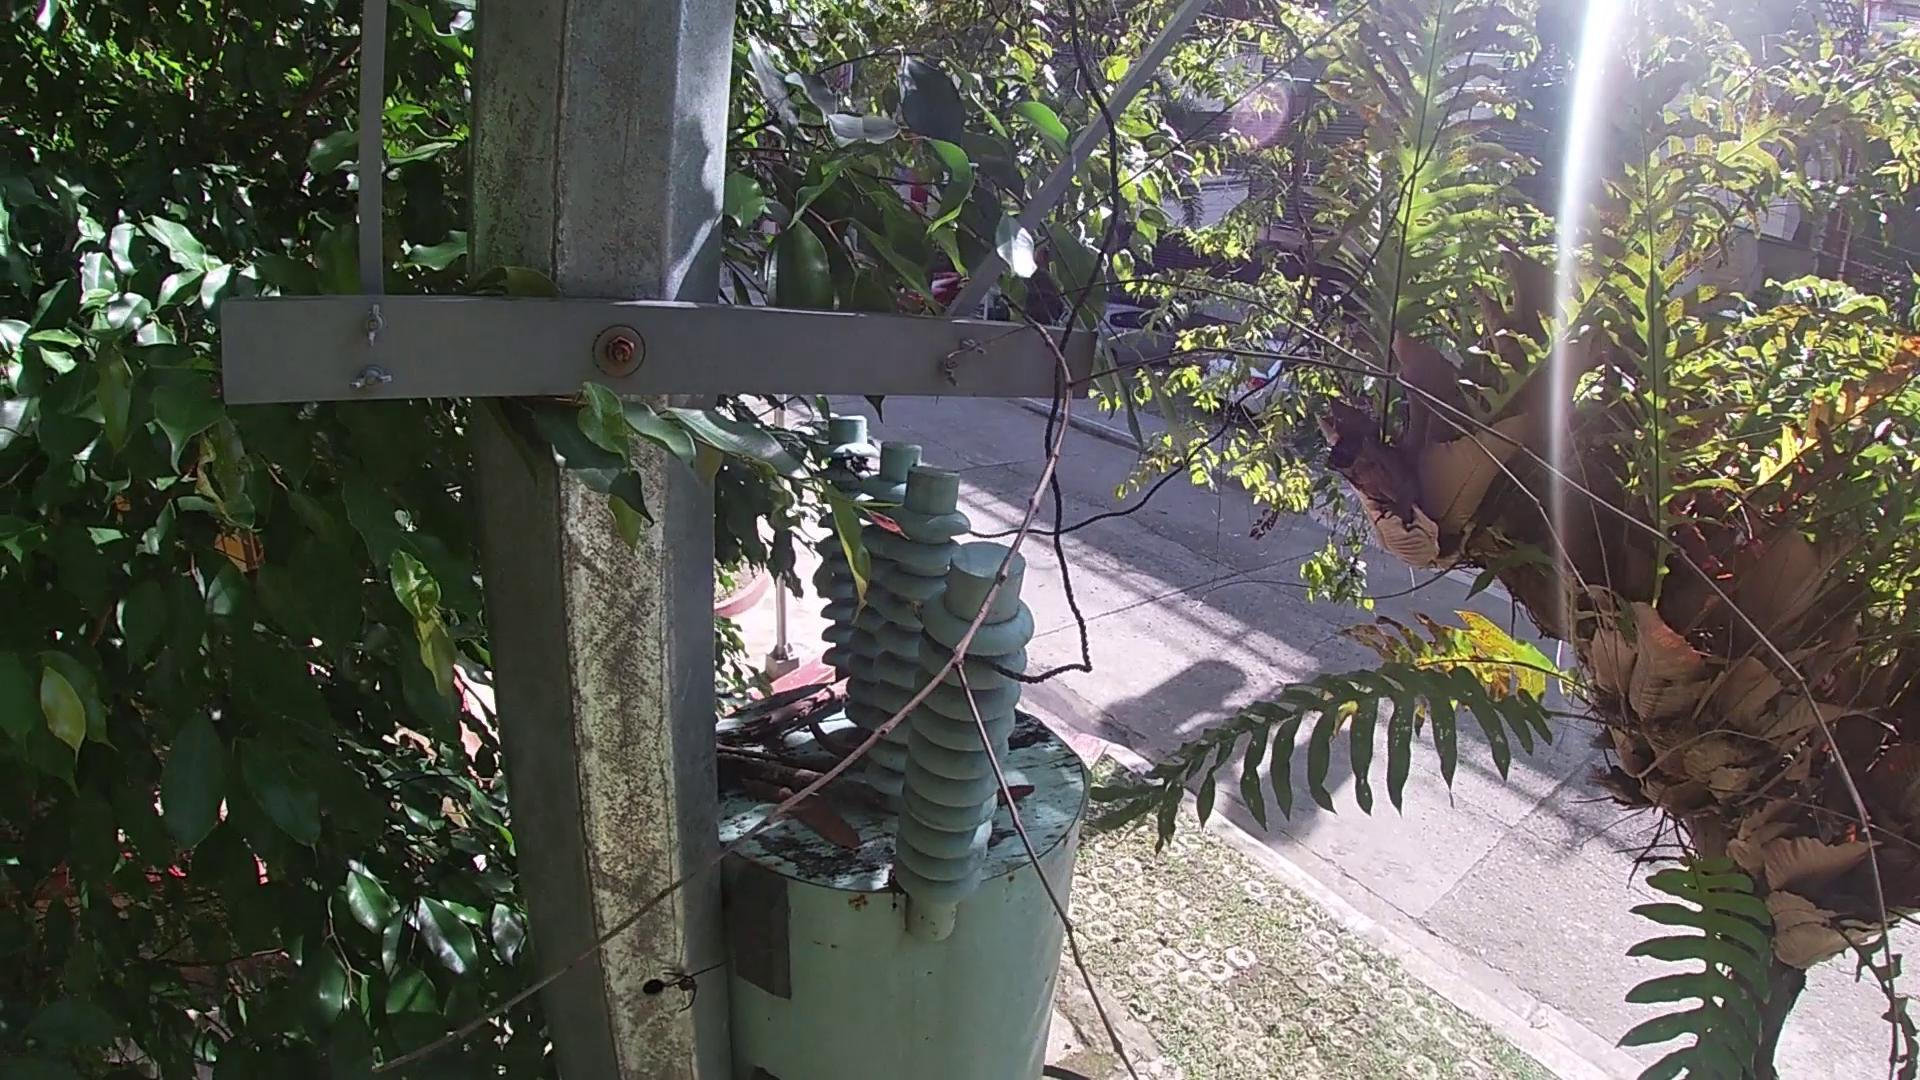leaf: (786, 790, 865, 855), (736, 773, 793, 802), (996, 785, 1033, 804)
tree branch: (344, 274, 1905, 1077), (717, 749, 880, 811), (738, 676, 855, 746)
